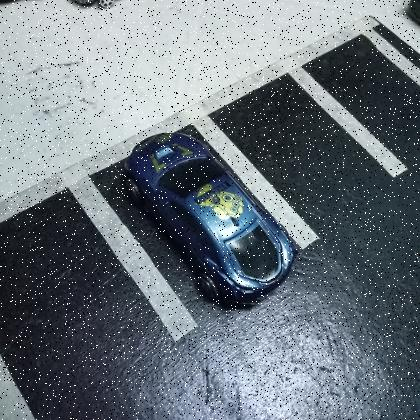Car: (126, 132, 298, 309)
